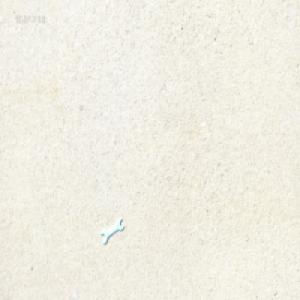Wrench: (101, 215, 124, 244)
